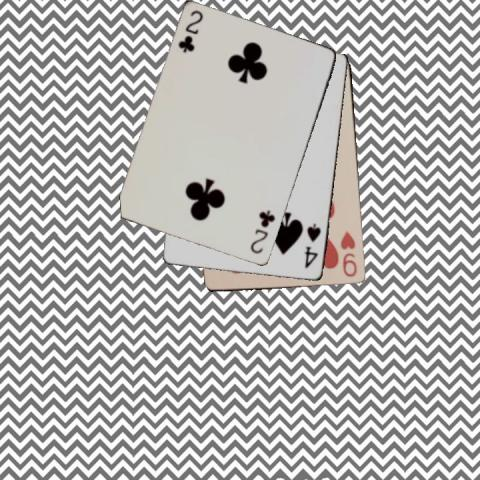2c: (247, 208, 277, 256), (175, 7, 205, 55)
4s: (302, 221, 323, 270)
9h: (338, 228, 359, 279)
